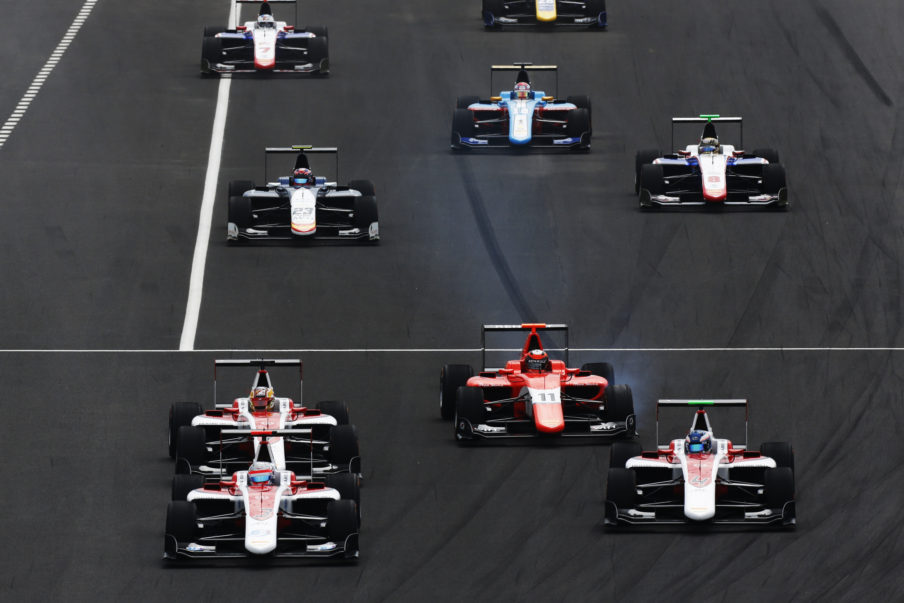race car: (157, 425, 363, 569), (599, 397, 798, 534), (434, 322, 638, 446), (165, 358, 363, 479), (225, 144, 383, 249), (633, 111, 789, 216), (447, 61, 596, 157), (198, 1, 335, 82), (477, 1, 611, 38)
